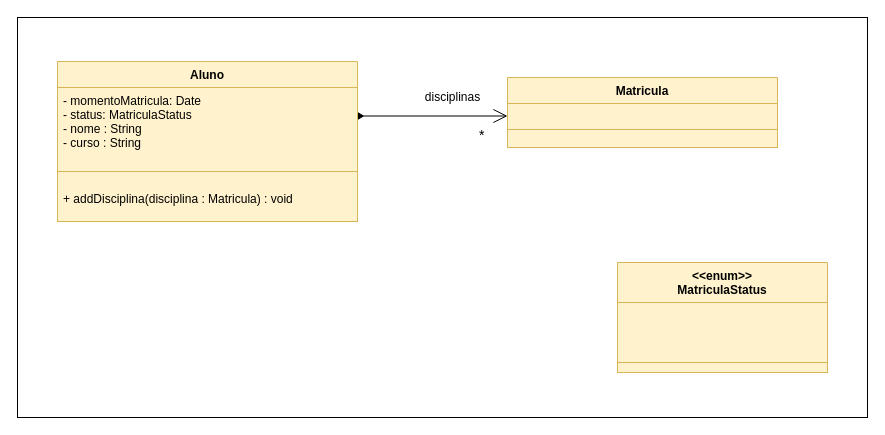
This 885x435 diagram has some shape labels left out. Here are the shapes that lost their labels. From the top down, the centre of each, then its label:
point (642, 116): - materias: String
point (722, 332): - PENDENTE : int = 0 - APROVADO : int = 1 - RECUSADO : int = 2
